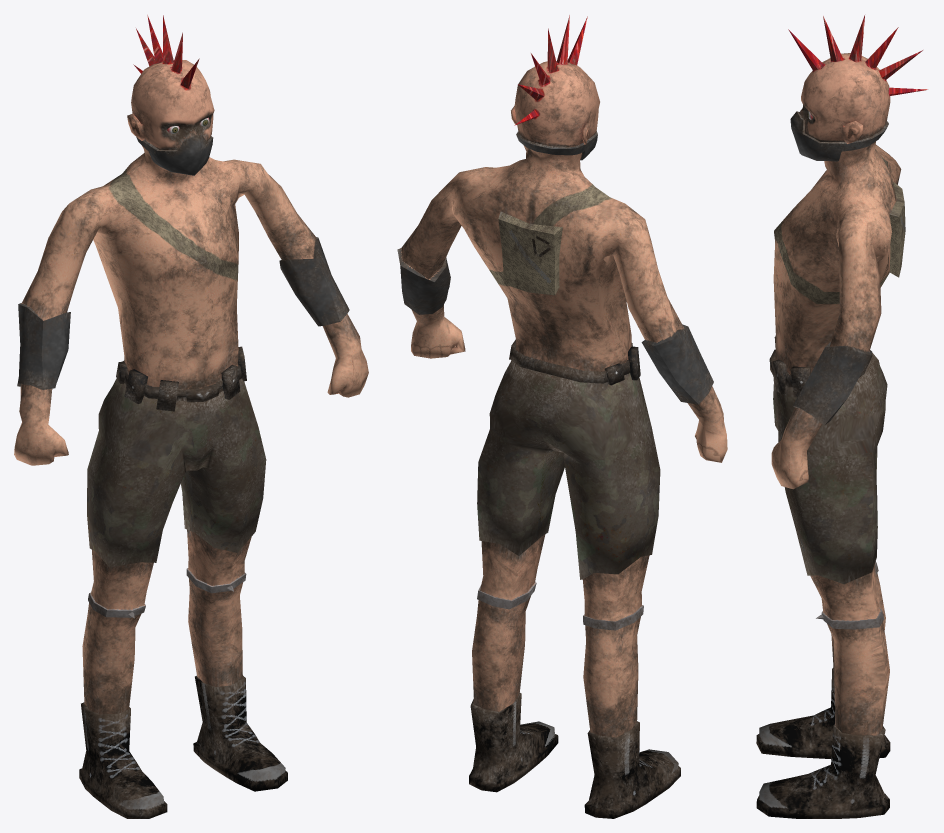
The model's file is Anim_idle_npc2.0035.obj.
3 views of the same model, side by side, from view 1: azimuth 30°, elevation 25°; view 2: azimuth 150°, elevation 25°; view 3: azimuth 270°, elevation 25° (orthographic).
Visible parts, largest first — view 1: polySurface1; view 2: polySurface1; view 3: polySurface1.
Boxes of the visible parts, <box> form: polySurface1: <box>14,15,368,818</box>; polySurface1: <box>397,15,727,818</box>; polySurface1: <box>756,15,927,818</box>.
Bounding box in the file's own units: 4.68 × 10.18 × 2.08.
